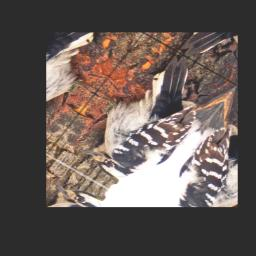Woodpecker: (54, 34, 235, 198)
